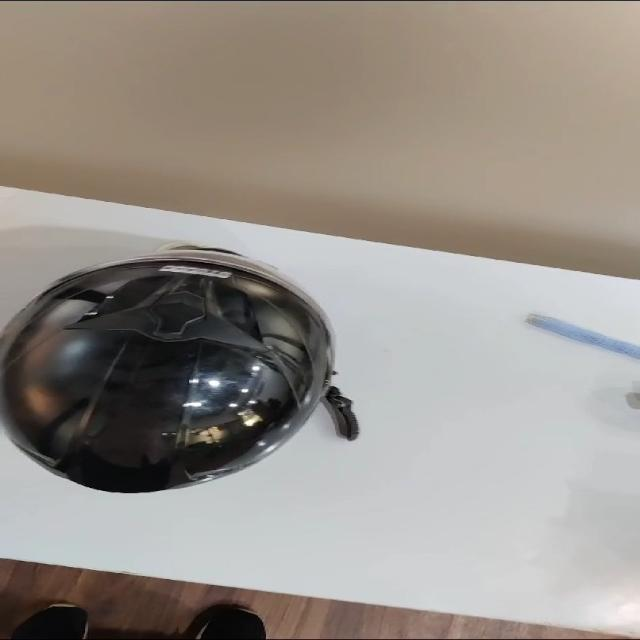helmet: (6, 238, 329, 515)
